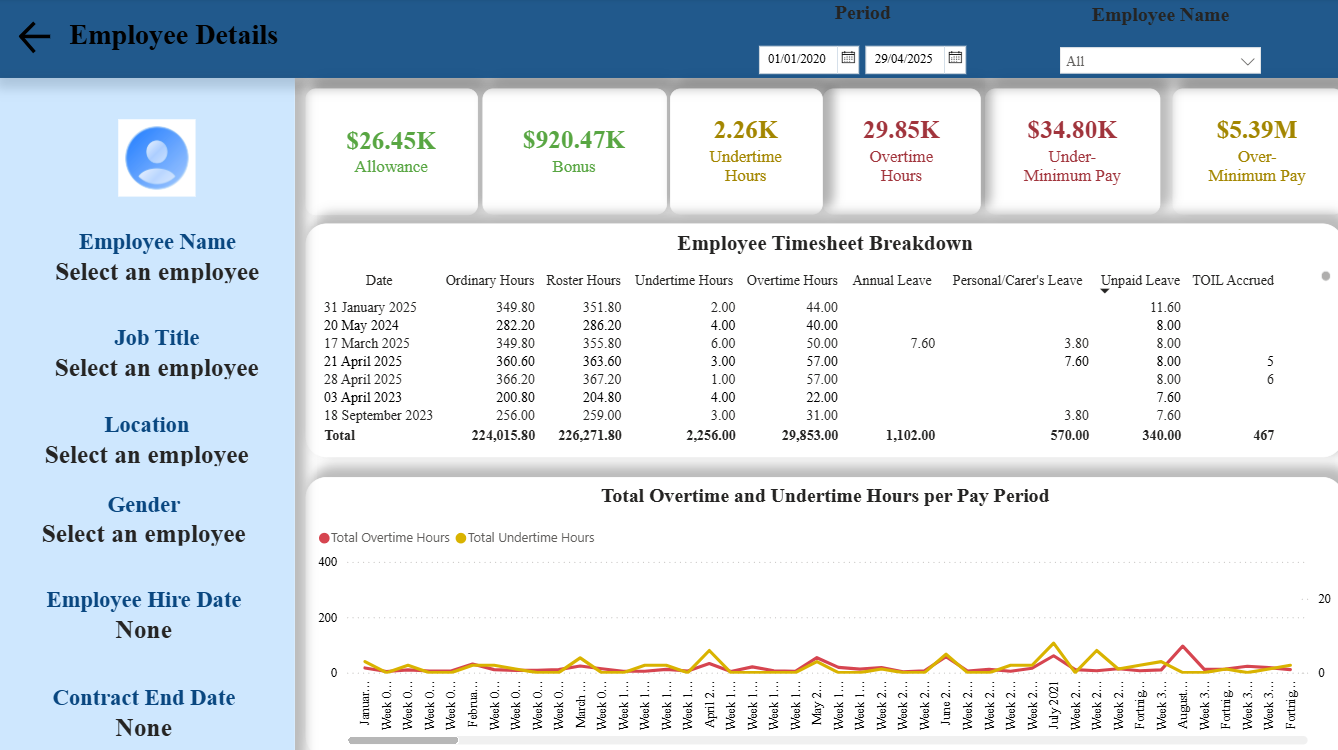

The dashboard page shown, as its layout file describes it:
{"tool":"powerbi","page":{"name":"Employee Details","canvas":[1280,720],"ordinal":1},"visuals":[{"type":"cardVisual","fields":{"Data":["measured_table.Total_allowance"]},"box":[296.8,86.6,163.3,120],"z":0},{"type":"cardVisual","fields":{"Data":["measured_table.Total_bonus"]},"box":[464.4,86.6,174.7,119.3],"z":1000},{"type":"cardVisual","fields":{"Data":["measured_table.Total_overpayment"]},"box":[1117.6,86.6,161.9,119.3],"z":2000},{"type":"cardVisual","fields":{"Data":["measured_table.Total_underpayment"]},"box":[940.1,86.6,166.2,119.3],"z":3000},{"type":"cardVisual","fields":{"Data":["measured_table.Total_overtime_hours"]},"box":[786.8,86.6,149.1,119.3],"z":4000},{"type":"cardVisual","fields":{"Data":["measured_table.Total_undertime_hours"]},"box":[641.9,86.6,144.9,119.3],"z":5000},{"type":"lineChart","title":"Total Overtime and Undertime Hours per Pay Period","fields":{"Category":["dim_pay_period.pay_period_label"],"Y":["measured_table.Total_overtime_hours"],"Y2":["measured_table.Total_undertime_hours"]},"box":[296.8,454.4,982.7,265.6],"z":6000},{"type":"tableEx","title":"Employee Timesheet Breakdown","fields":{"Values":["dim_dates.date","measured_table.Ordinary_hours","measured_table.Total_Roster_Hours","measured_table.Total_undertime_hours","measured_table.Total_overtime_hours","measured_table.Annual_leave_hours","measured_table.Sick_and_carer_leave_hours","measured_table.Unpaid_leave_hours","measured_table.Total_TOIL_Accrued"]},"box":[296.8,214.4,982.7,221.5],"z":7000},{"type":"shape","box":[0,0,1279.5,76.7],"z":8000},{"type":"textbox","box":[68.2,14.2,380.3,48.6],"z":9000},{"type":"slicer","title":"Period","fields":{"Values":["dim_dates.date"]},"box":[712.9,4.3,223,72.4],"z":10000},{"type":"slicer","title":"Employee Name","fields":{"Values":["dim_employees.Employee_Full_Name"]},"box":[1001.2,5.7,210.2,71],"z":11000},{"type":"shape","box":[0,76.7,286.9,643.3],"z":12000},{"type":"cardVisual","title":"Name","fields":{"Data":["measured_table.Employee_Name"]},"box":[27,205.9,259.9,82.4],"z":13000},{"type":"cardVisual","title":"Name","fields":{"Data":["measured_table.Employee_Location"]},"box":[17,379.2,259.9,82.4],"z":14000},{"type":"cardVisual","title":"Name","fields":{"Data":["measured_table.Employee_Gender"]},"box":[14.2,454.4,259.9,82.4],"z":15000},{"type":"cardVisual","title":"Name","fields":{"Data":["measured_table.Employee_Job_Title"]},"box":[0,296.8,312.4,82.4],"z":16000},{"type":"cardVisual","title":"Name","fields":{"Data":["measured_table.Contract_end_date"]},"box":[14.2,637.6,259.9,82.4],"z":17000},{"type":"cardVisual","title":"Name","fields":{"Data":["measured_table.Employee_Hire_Date"]},"box":[14.2,541.1,259.9,89.5],"z":18000},{"type":"actionButton","box":[79.5,105.1,153.4,95.1],"z":19000},{"type":"actionButton","box":[21.3,18.5,46.9,39.8],"z":20000}]}

Visuals, with their boxes in screenshot pixels (x1, y1, x2, y2), scaled from the page's 1280x720 canvas onto the 1338x750 screenshot:
cardVisual - measured_table.Total_allowance: pyautogui.locateOnScreen(310, 90, 481, 215)
cardVisual - measured_table.Total_bonus: pyautogui.locateOnScreen(485, 90, 668, 214)
cardVisual - measured_table.Total_overpayment: pyautogui.locateOnScreen(1168, 90, 1337, 214)
cardVisual - measured_table.Total_underpayment: pyautogui.locateOnScreen(983, 90, 1156, 214)
cardVisual - measured_table.Total_overtime_hours: pyautogui.locateOnScreen(822, 90, 978, 214)
cardVisual - measured_table.Total_undertime_hours: pyautogui.locateOnScreen(671, 90, 822, 214)
"Total Overtime and Undertime Hours per Pay Period" lineChart: pyautogui.locateOnScreen(310, 473, 1337, 749)
"Employee Timesheet Breakdown" tableEx: pyautogui.locateOnScreen(310, 223, 1337, 454)
shape: pyautogui.locateOnScreen(0, 0, 1337, 80)
textbox: pyautogui.locateOnScreen(71, 15, 469, 65)
"Period" slicer: pyautogui.locateOnScreen(745, 4, 978, 80)
"Employee Name" slicer: pyautogui.locateOnScreen(1047, 6, 1266, 80)
shape: pyautogui.locateOnScreen(0, 80, 300, 749)
"Name" cardVisual: pyautogui.locateOnScreen(28, 214, 300, 300)
"Name" cardVisual: pyautogui.locateOnScreen(18, 395, 289, 481)
"Name" cardVisual: pyautogui.locateOnScreen(15, 473, 287, 559)
"Name" cardVisual: pyautogui.locateOnScreen(0, 309, 327, 395)
"Name" cardVisual: pyautogui.locateOnScreen(15, 664, 287, 749)
"Name" cardVisual: pyautogui.locateOnScreen(15, 564, 287, 657)
actionButton: pyautogui.locateOnScreen(83, 109, 243, 209)
actionButton: pyautogui.locateOnScreen(22, 19, 71, 61)
